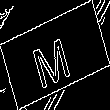M_N: (32, 23, 78, 87)
